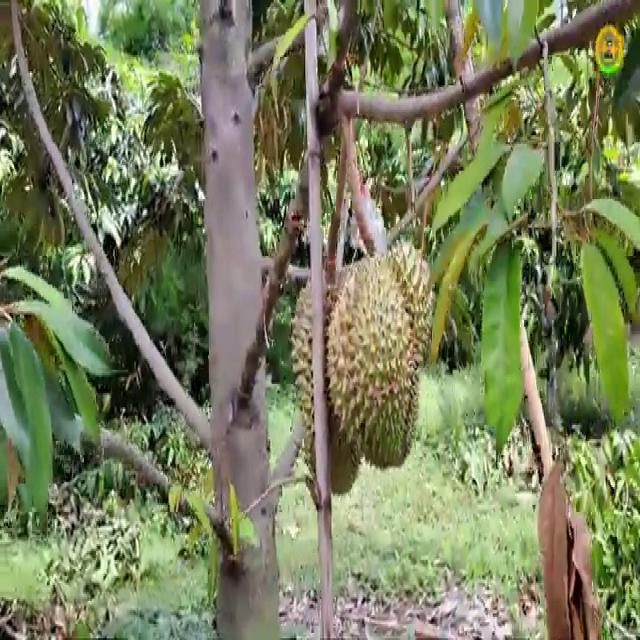durian: (322, 233, 439, 478), (322, 240, 425, 476), (288, 268, 373, 506)
